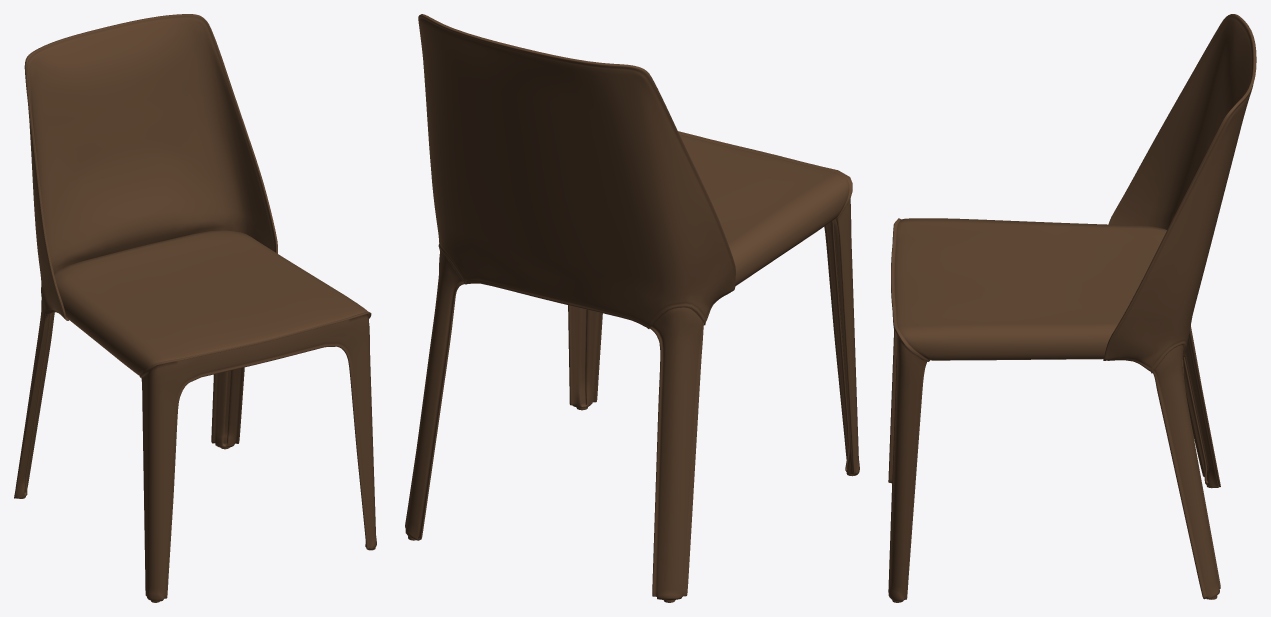
Rendered from isabelchair.gltf.
3 views of the same model, side by side, from view 1: azimuth 30°, elevation 25°; view 2: azimuth 150°, elevation 25°; view 3: azimuth 270°, elevation 25° (orthographic). The views are drawn at different scales.
Parts seen in each view (by area): view 1: isabel; view 2: isabel; view 3: isabel.
Part boxes in pixels (bbox=[...]): isabel: bbox=[14, 14, 376, 602]; isabel: bbox=[405, 14, 859, 602]; isabel: bbox=[888, 14, 1256, 602].
Bounding box in the file's own units: 0.45 × 0.81 × 0.56.
1 material, 1 textured.
